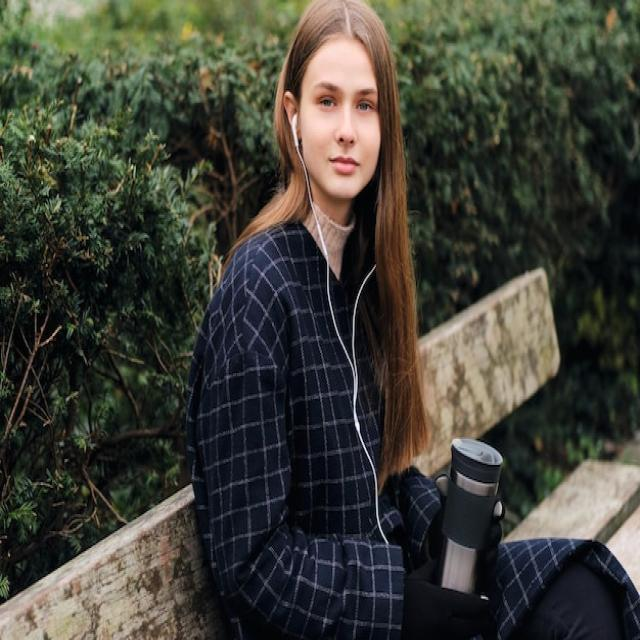Earphone: (290, 109, 390, 548)
